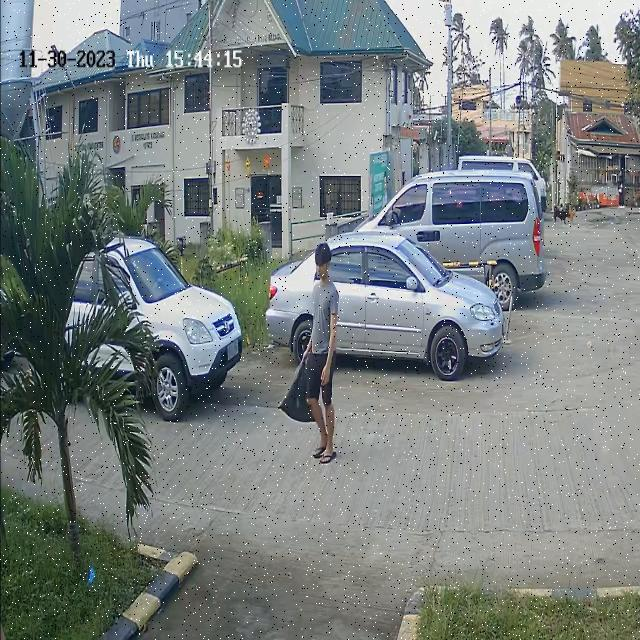human: (306, 247, 342, 458)
trash: (274, 348, 320, 429)
